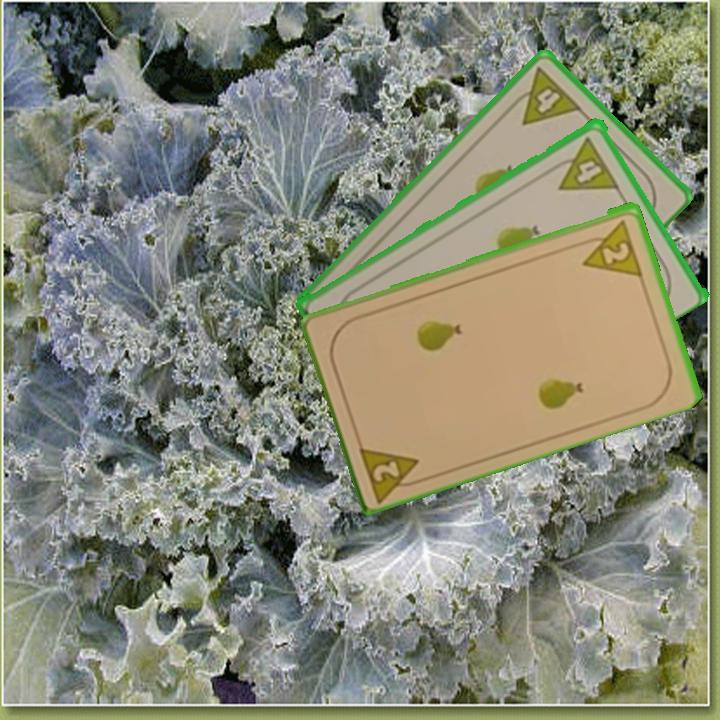2p: (355, 439, 430, 503), (574, 214, 645, 278)
4p: (503, 63, 584, 128), (546, 132, 621, 194)
